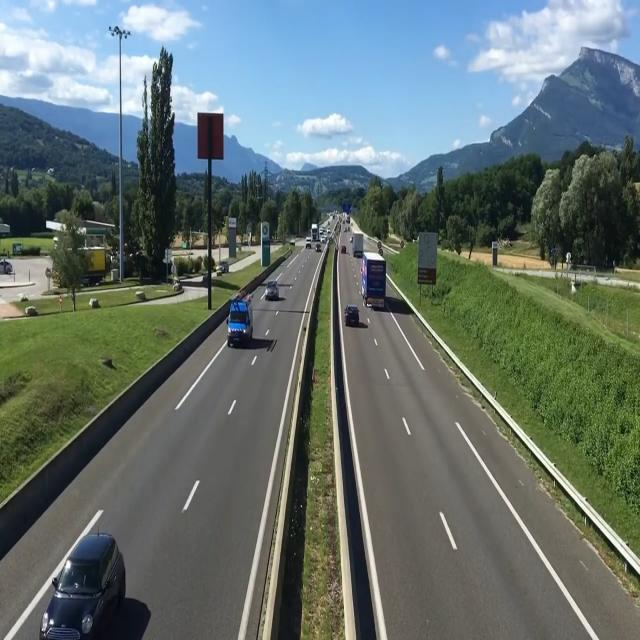car: (34, 533, 126, 640), (227, 286, 260, 353), (340, 301, 363, 334), (260, 278, 281, 307)
truck: (358, 251, 389, 308)
